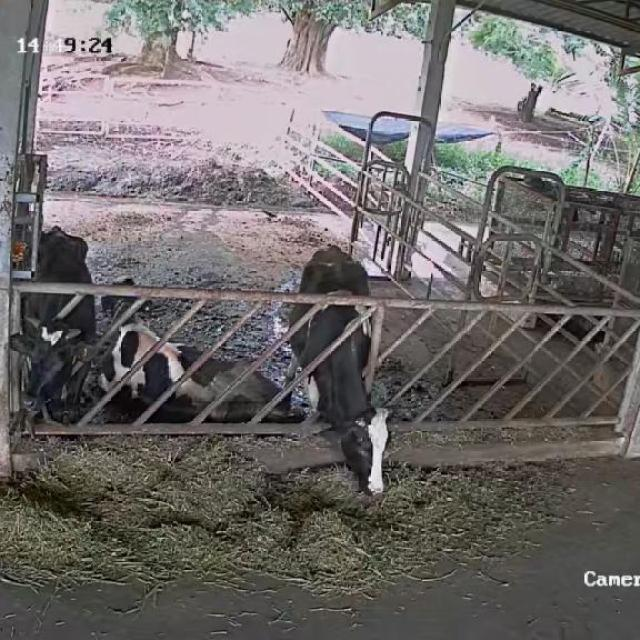feeding: (286, 243, 396, 495), (10, 226, 109, 436)
lying down: (96, 267, 284, 423)
